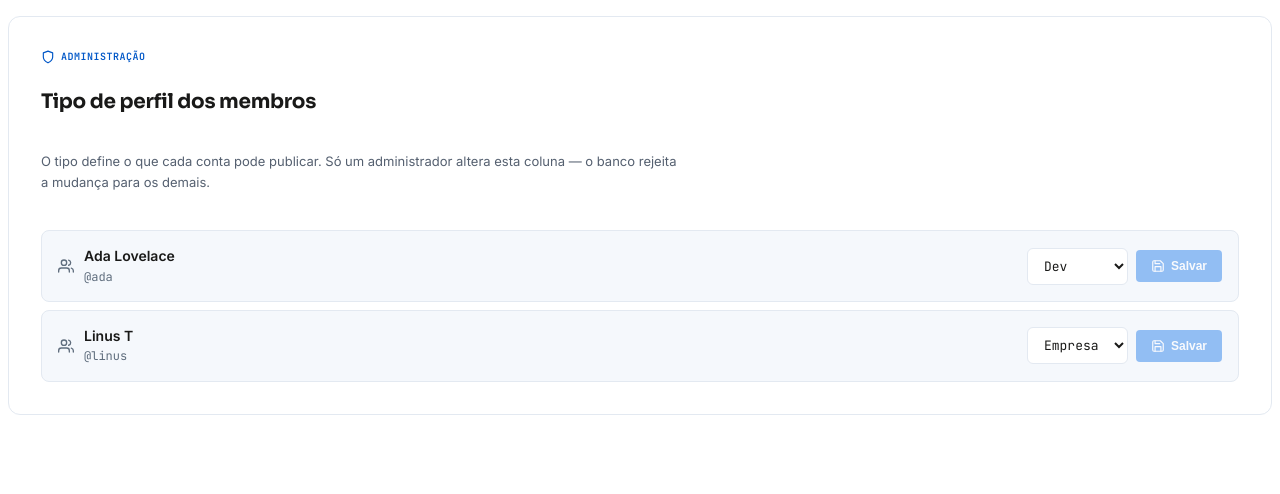
Test case: AdminProfileTypes › mantem o valor pendente quando a gravacao falha
Select "Empresa" in the dropdown named "Ada Lovelace". click: (1078, 266)
box: [1027,248,1128,285]
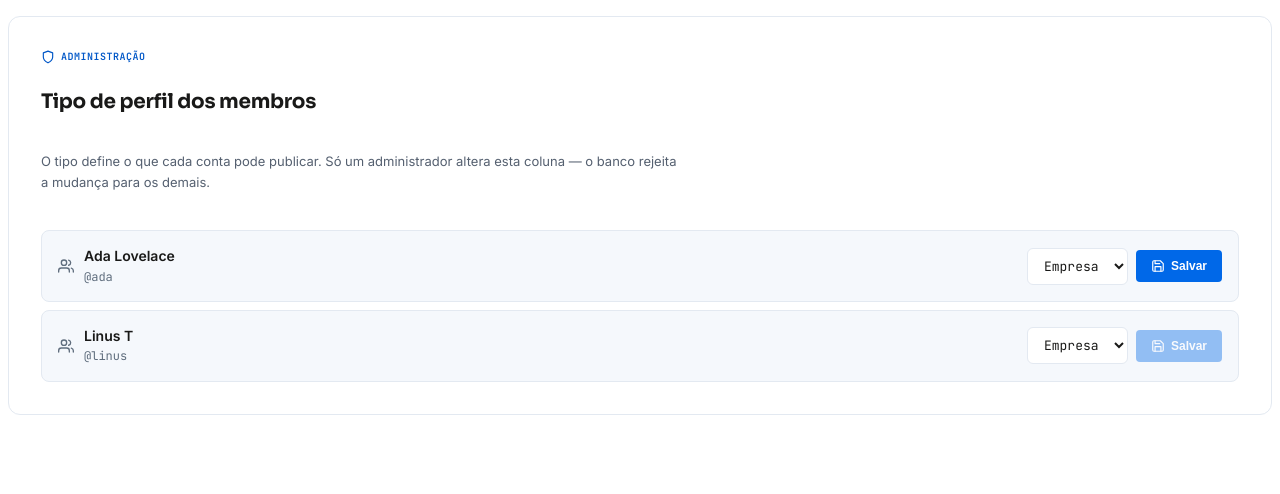
Click the button "Salvar" in the row of "Ada Lovelace". click: (1179, 266)
box: [1136,250,1222,282]
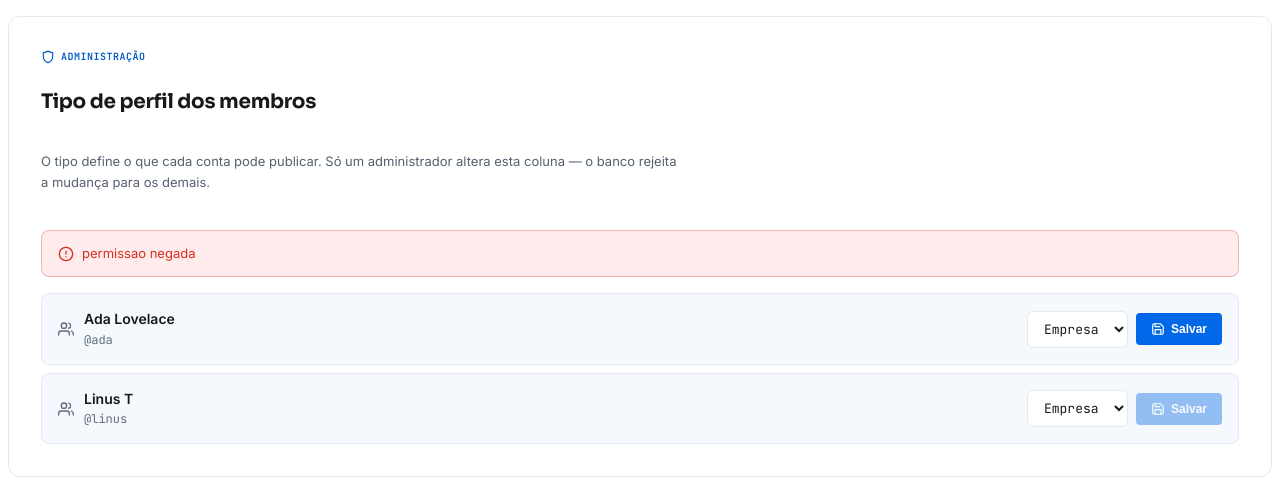
Result: the text "permissao negada" is shown at [82,243,196,264]
